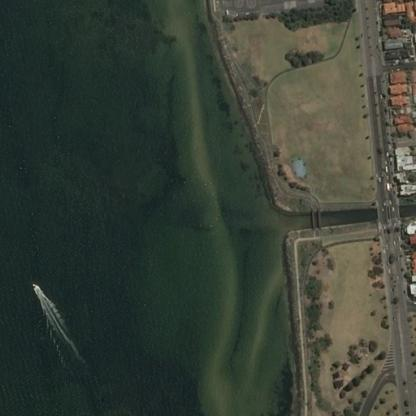ship: (23, 276, 46, 295)
